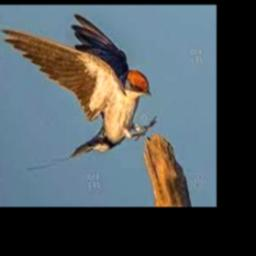Swallow: (0, 13, 157, 171)
